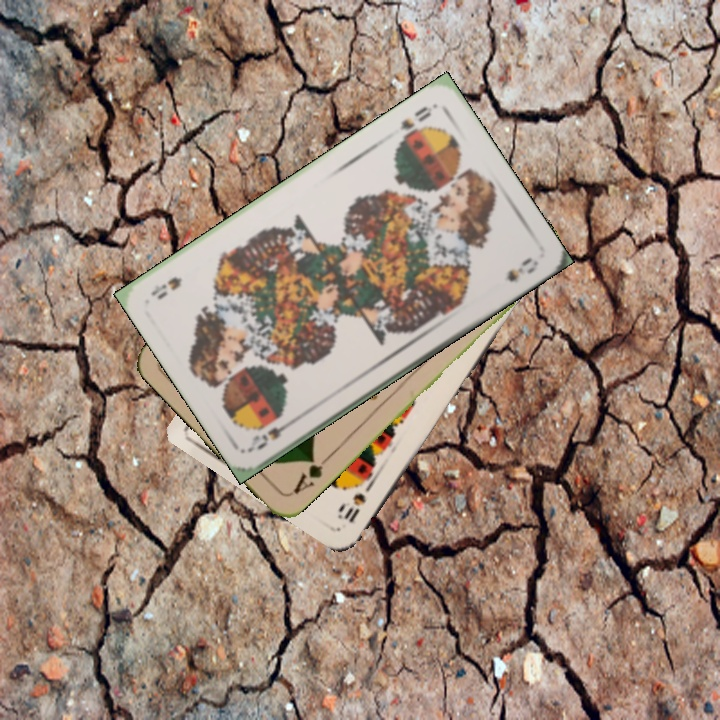GA: (289, 451, 334, 498)
S10: (336, 477, 376, 526)
SO: (246, 413, 299, 453), (395, 100, 439, 141)
